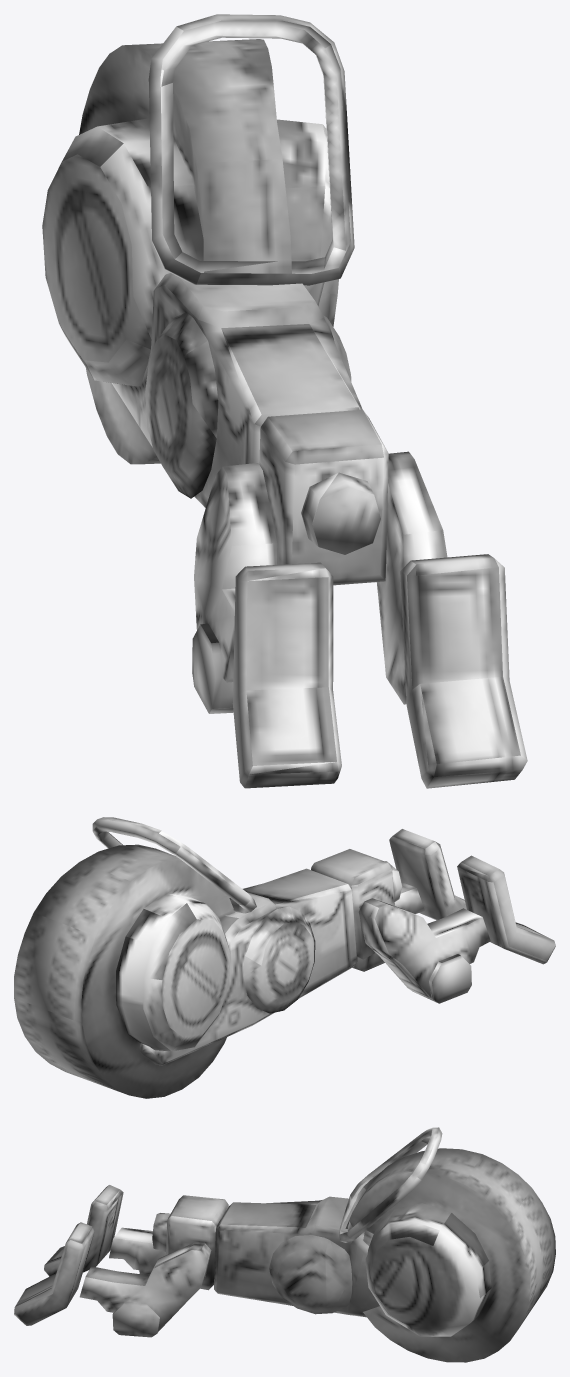
The model's file is r_foot.glb.
3 views of the same model, one above another, from view 1: azimuth 30°, elevation 25°; view 2: azimuth 150°, elevation 25°; view 3: azimuth 270°, elevation 25° (orthographic). The views are drawn at different scales.
Parts seen in each view (by area): view 1: r_foot; view 2: r_foot; view 3: r_foot.
Boxes of the visible parts, bbox=[...] form: r_foot: bbox=[42, 14, 527, 788]; r_foot: bbox=[14, 817, 555, 1098]; r_foot: bbox=[14, 1127, 555, 1362].
Size of the model in its own units: 2.18 by 1.87 by 4.22.
3 materials, 3 textured.
